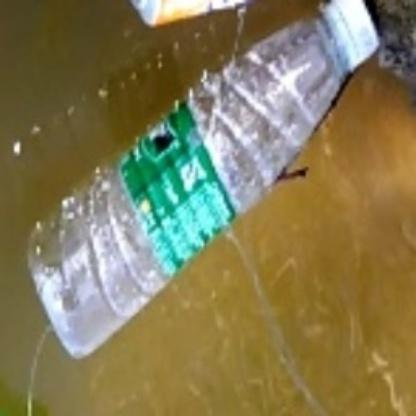plastic bottle: (25, 1, 382, 363)
